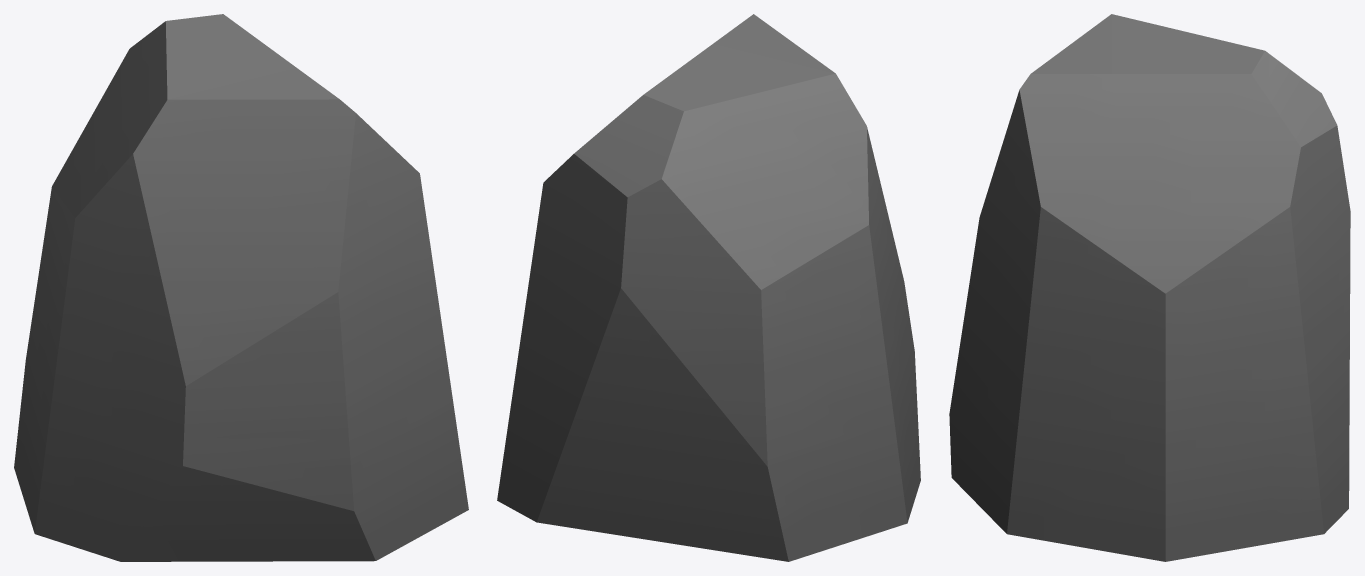
The model's file is SmallRock_07.fbx.
3 renders of one model, left to right at view 1: azimuth 30°, elevation 25°; view 2: azimuth 150°, elevation 25°; view 3: azimuth 270°, elevation 25°, orthographic. The views are drawn at different scales.
Visible parts, largest first — view 1: small_rock_05; view 2: small_rock_05; view 3: small_rock_05.
Part boxes in pixels (x1,y1,x2,y2): small_rock_05: (14, 14, 468, 561); small_rock_05: (497, 14, 920, 561); small_rock_05: (949, 14, 1350, 561).
Bounding box in the file's own units: 200 × 200 × 179.
1 material, 1 textured.
